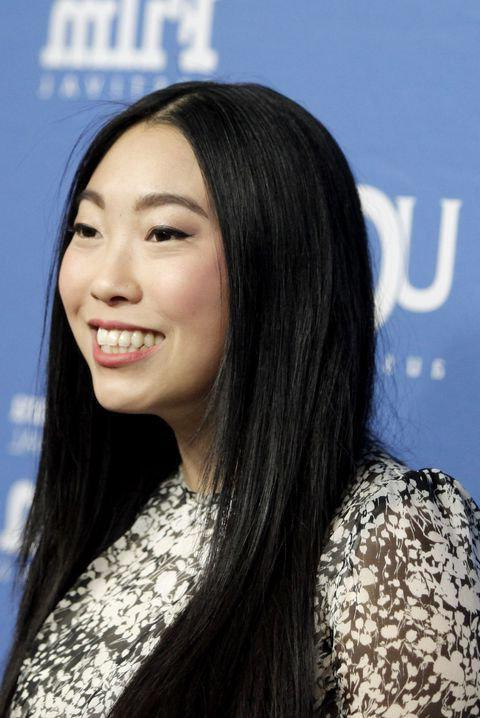Sober: (56, 137, 252, 414)
